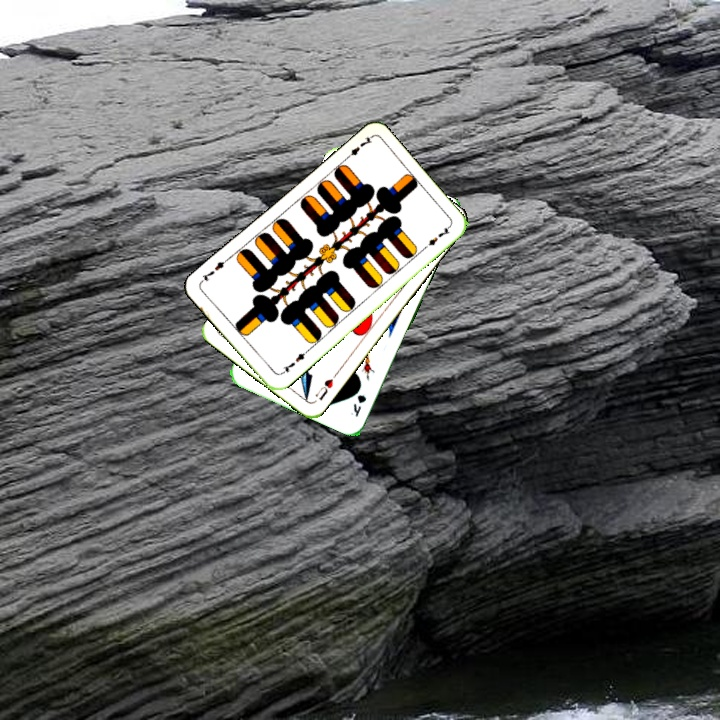E7: (340, 133, 375, 163), (276, 347, 310, 377)
GK: (346, 390, 369, 420)
HU: (311, 369, 340, 403)
